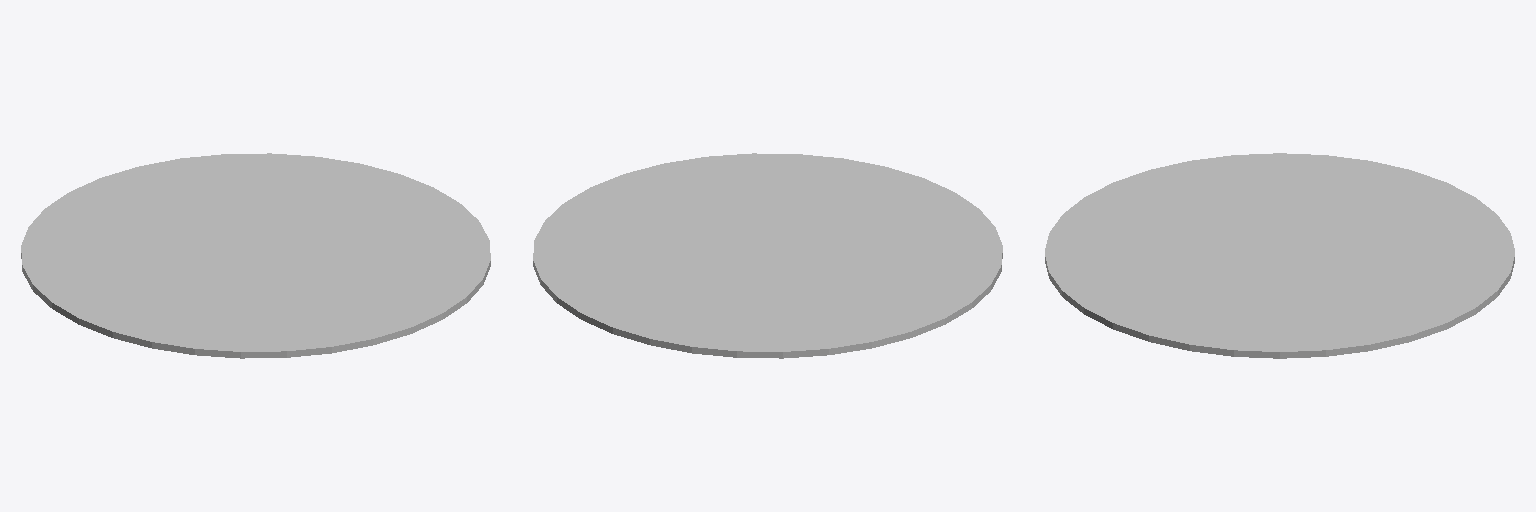
File: Intact Record.obj
3 views of the same model, side by side, from view 1: azimuth 30°, elevation 25°; view 2: azimuth 150°, elevation 25°; view 3: azimuth 270°, elevation 25° (orthographic).
Visible parts, largest first — view 1: Intact Record; view 2: Intact Record; view 3: Intact Record.
Part boxes in pixels (bbox=[...]): Intact Record: bbox=[21, 153, 490, 358]; Intact Record: bbox=[533, 153, 1002, 358]; Intact Record: bbox=[1045, 153, 1514, 358].
Bounding box in the file's own units: 1.08 × 0.0165 × 1.08.